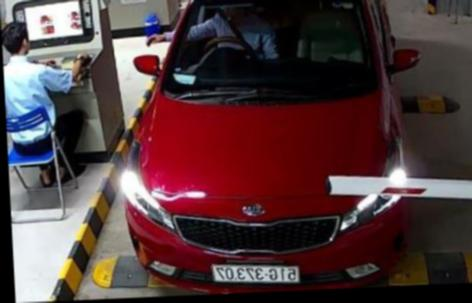License_Plate: (210, 256, 302, 287)
